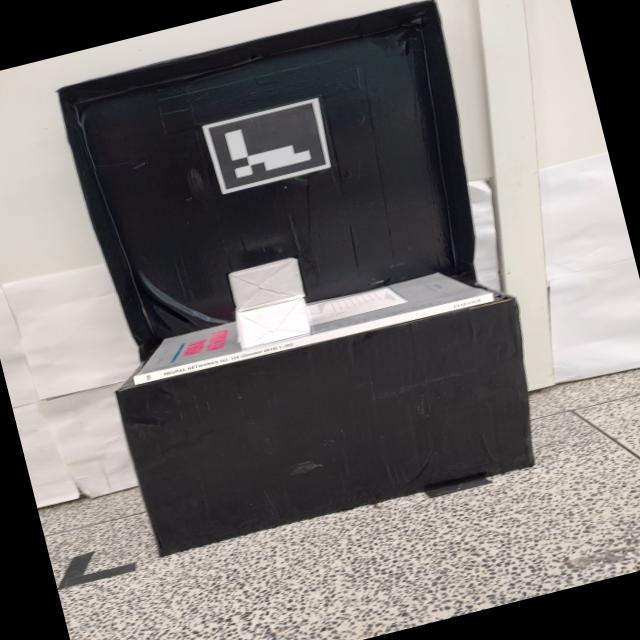bale: (225, 255, 308, 314), (232, 293, 316, 351)
